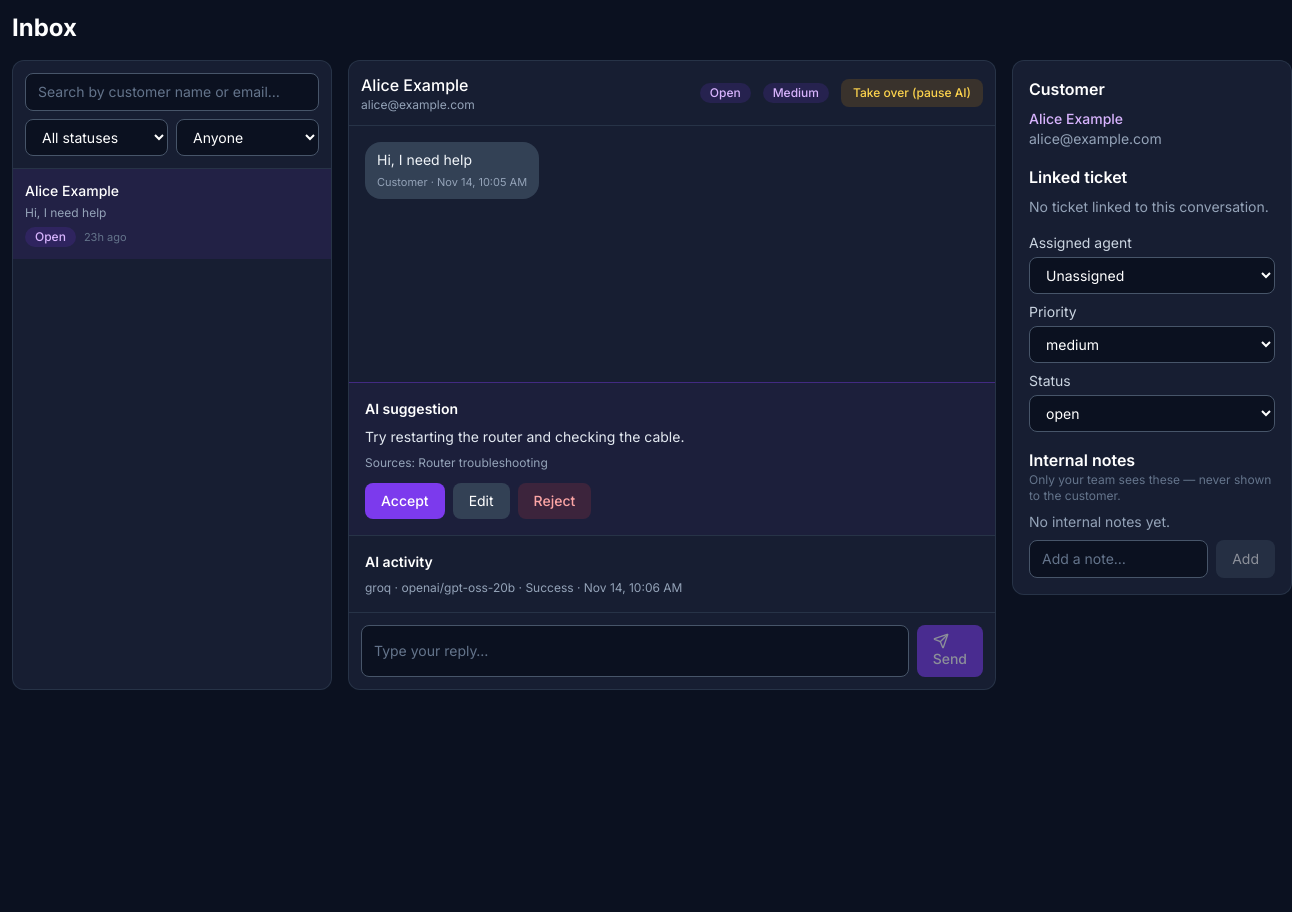
Test: Inbox AI suggestion panel › edits a suggestion and sends the edited text
Later steps or results of the test are not shown.
Expected: the heading "AI suggestion" is shown, 365,400 -> 458,417
Click the button "Edit" at [481, 501], box 453,483 -> 510,519
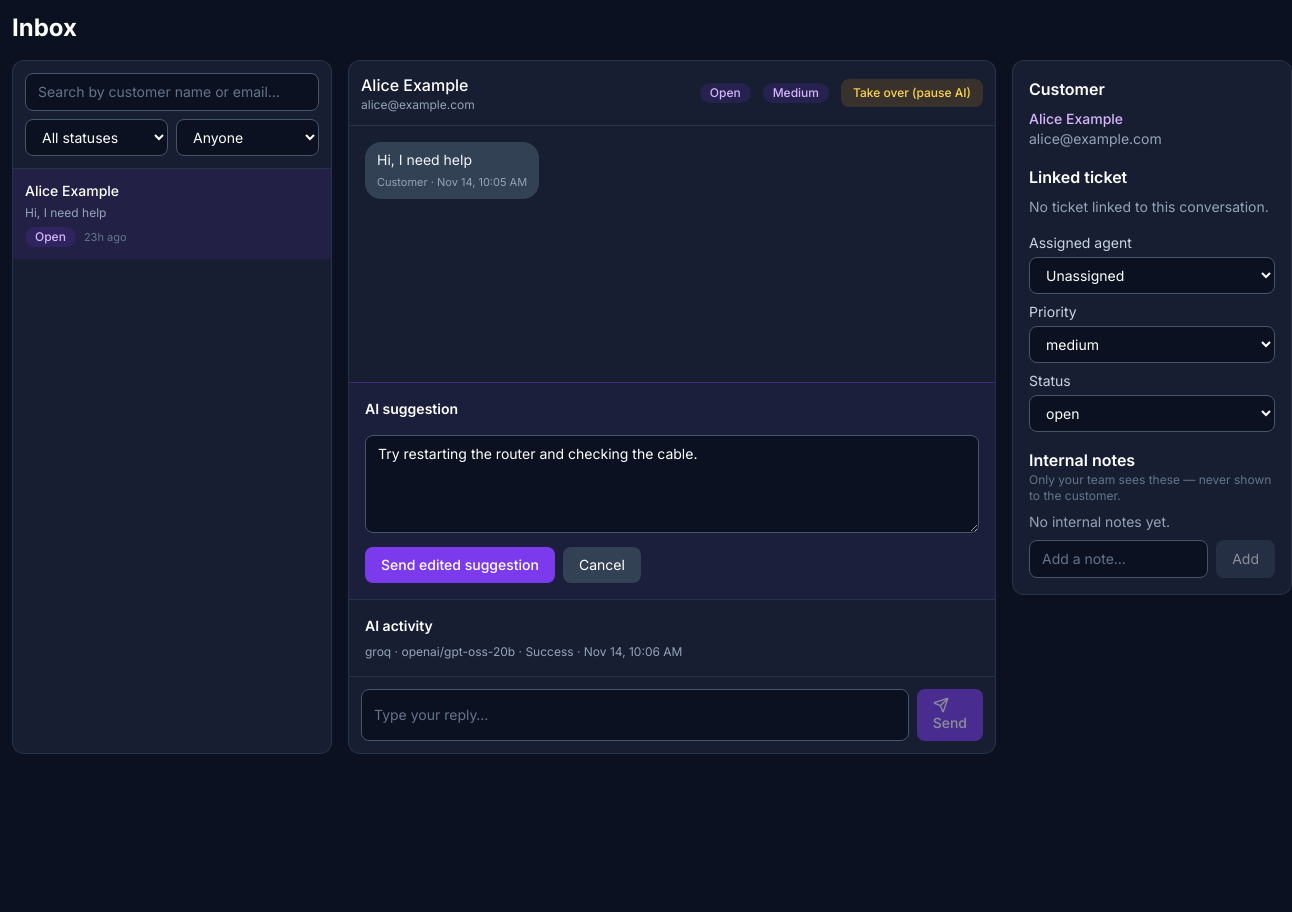
Result: the text box named "Edit suggestion" holds "Try restarting the router and checking the cable." at 365,435 -> 979,533
